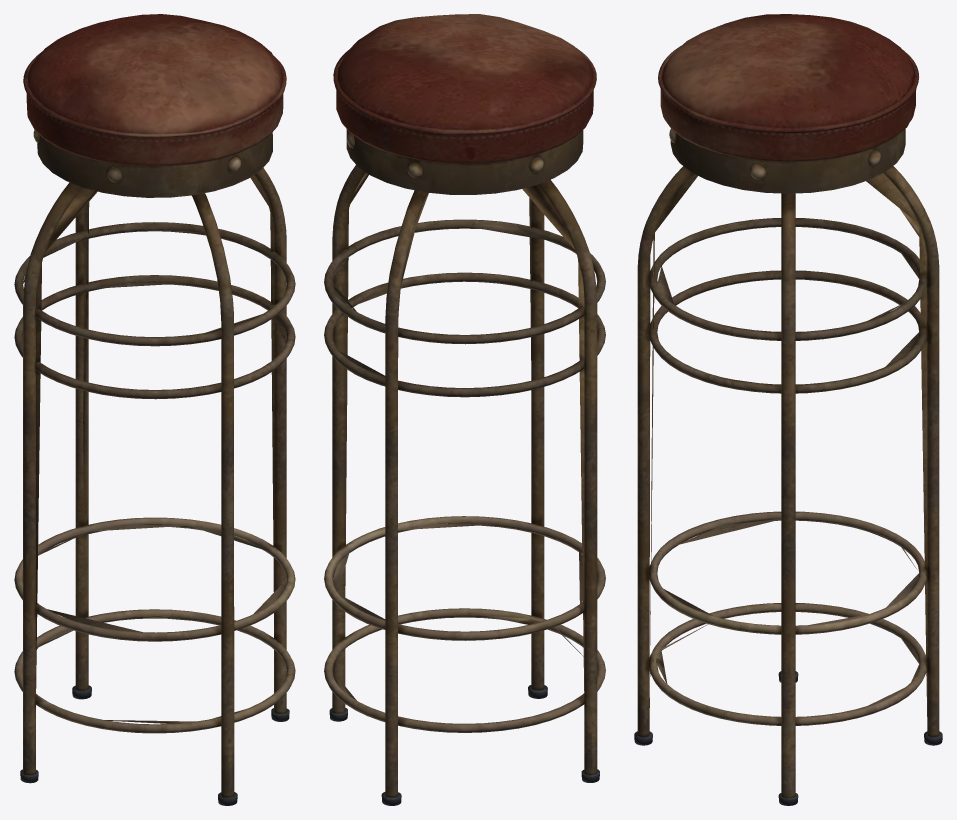
The model's file is metal_stool_01.glb.
The picture shows the model from 3 angles, left to right: view 1: azimuth 30°, elevation 25°; view 2: azimuth 150°, elevation 25°; view 3: azimuth 270°, elevation 25°; orthographic projection.
Parts seen in each view (by area): view 1: metal_stool_01, metal_stool_01_lo; view 2: metal_stool_01, metal_stool_01_lo; view 3: metal_stool_01, metal_stool_01_lo.
Boxes of the visible parts, x1=… form: metal_stool_01: x1=14, y1=14, x2=295, y2=805; metal_stool_01_lo: x1=22, y1=175, x2=288, y2=798; metal_stool_01: x1=324, y1=14, x2=605, y2=805; metal_stool_01_lo: x1=331, y1=144, x2=599, y2=798; metal_stool_01: x1=634, y1=14, x2=942, y2=805; metal_stool_01_lo: x1=635, y1=162, x2=941, y2=798.
Bounding box in the file's own units: 0.352 × 0.8824 × 0.3546.
1 material, 1 textured.
